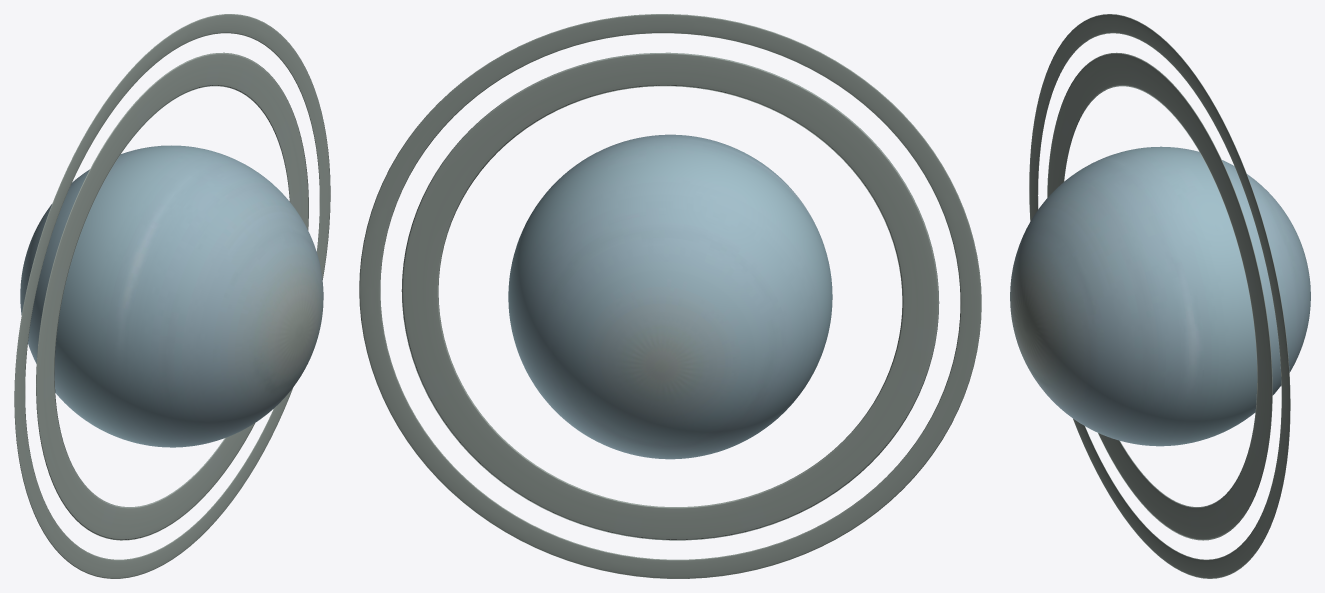
Rendered from uranus.glb.
3 views of the same model, side by side, from view 1: azimuth 30°, elevation 25°; view 2: azimuth 150°, elevation 25°; view 3: azimuth 270°, elevation 25° (orthographic). The views are drawn at different scales.
Parts seen in each view (by area): view 1: Object_2; view 2: Object_2; view 3: Object_2.
Part boxes in pixels (x1=…): Object_2: x1=14, y1=14, x2=330, y2=578; Object_2: x1=359, y1=14, x2=981, y2=578; Object_2: x1=1010, y1=14, x2=1310, y2=578.
Size of the model in its own units: 861 by 966 by 505.
1 material, 1 textured.
